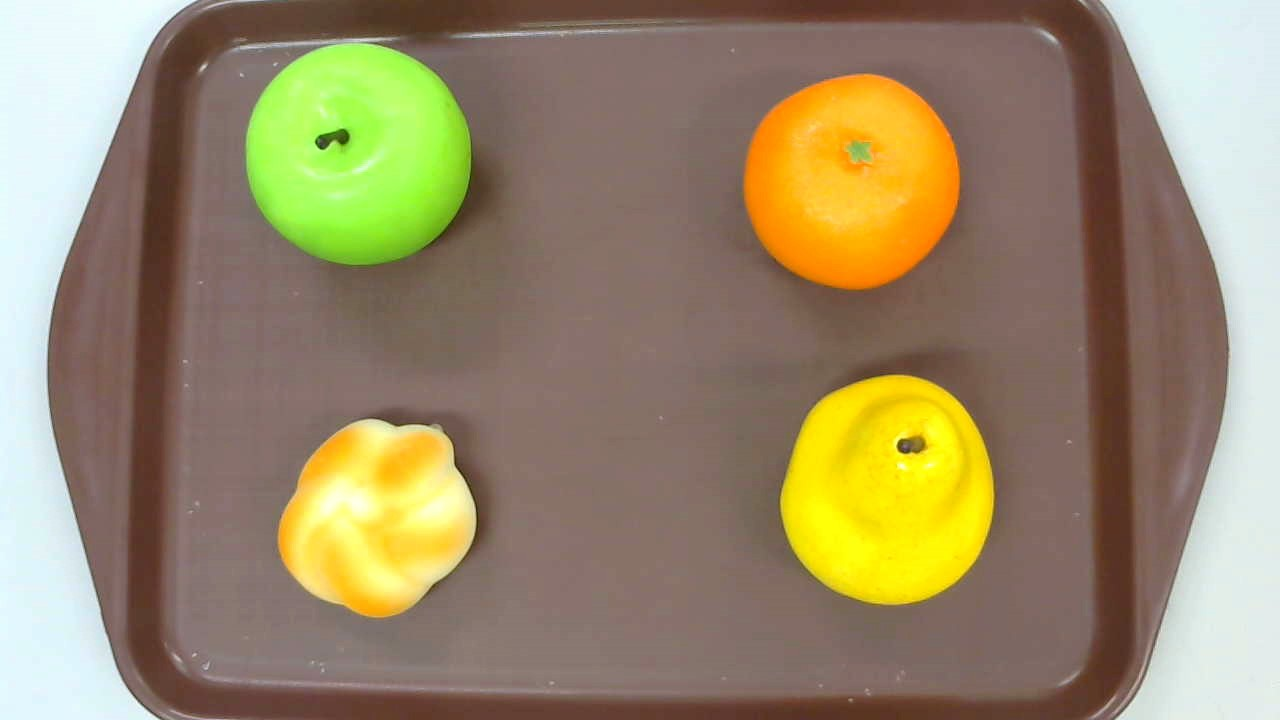green apple: (244, 44, 471, 267)
orange: (744, 73, 960, 292)
twist bread: (276, 418, 476, 617)
yellow pear: (780, 373, 994, 605)
